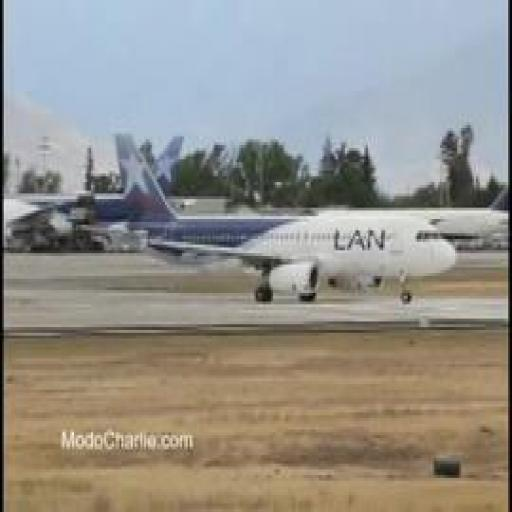aircraft: (115, 132, 457, 304)
